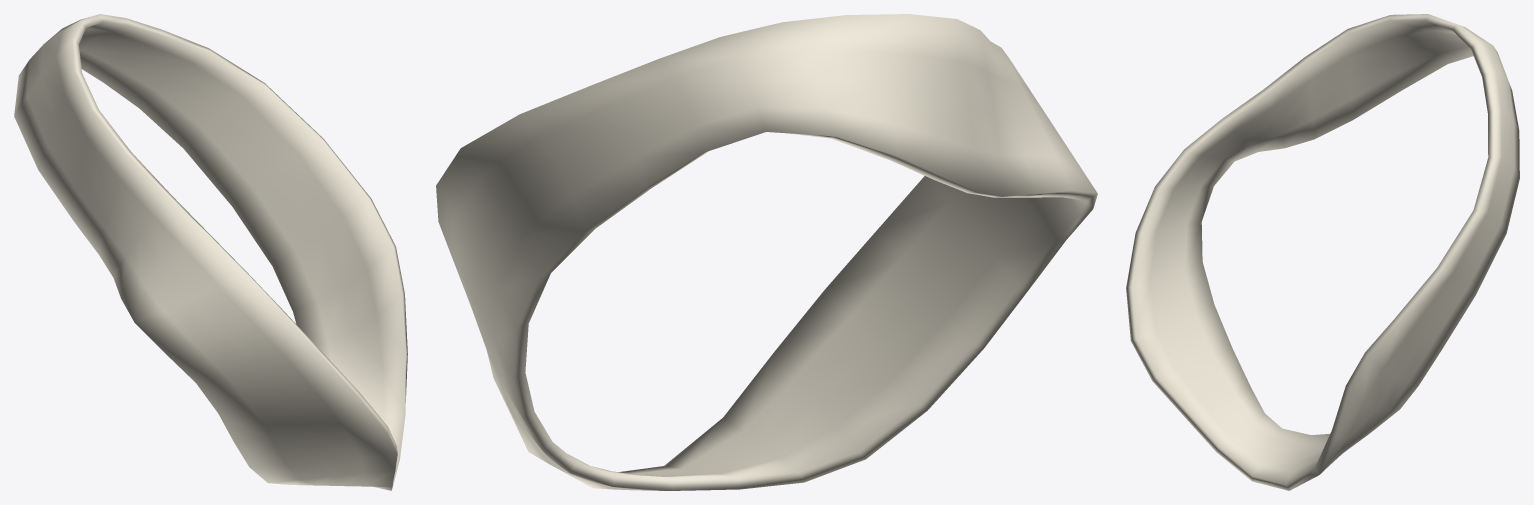
3 renders of one model, left to right at view 1: azimuth 30°, elevation 25°; view 2: azimuth 150°, elevation 25°; view 3: azimuth 270°, elevation 25°, orthographic. The views are drawn at different scales.
Visible parts, largest first — view 1: ZA_8636a5bd14459351; view 2: ZA_8636a5bd14459351; view 3: ZA_8636a5bd14459351.
Part boxes in pixels (x1=…): ZA_8636a5bd14459351: x1=14, y1=14, x2=407, y2=490; ZA_8636a5bd14459351: x1=436, y1=14, x2=1097, y2=490; ZA_8636a5bd14459351: x1=1126, y1=14, x2=1519, y2=490.
Bounding box in the file's own units: 0.0224 × 0.027 × 0.0257.
